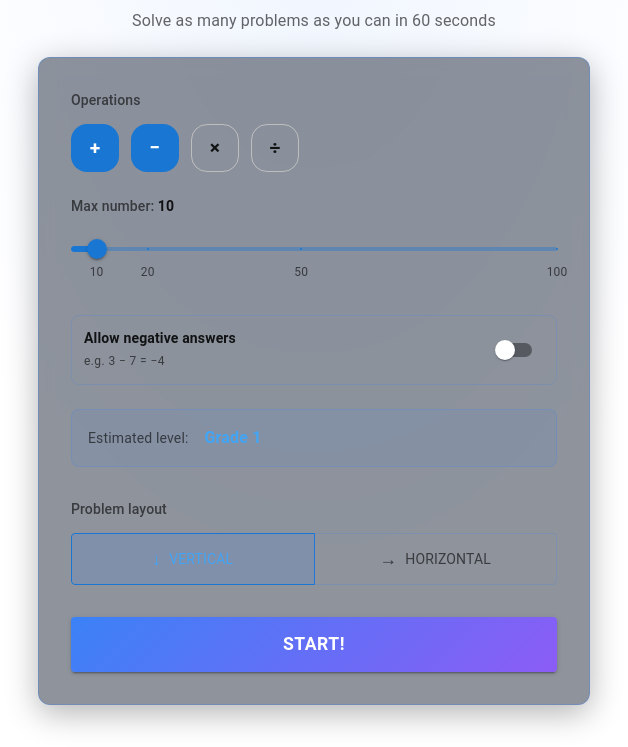
Scenario: MinuteMath page – answering problems › answering correctly increments the correct count
(page scrolled)
Step 1. Click the button "Start!" → (314, 645), box [71, 617, 557, 672]
(page scrolled)
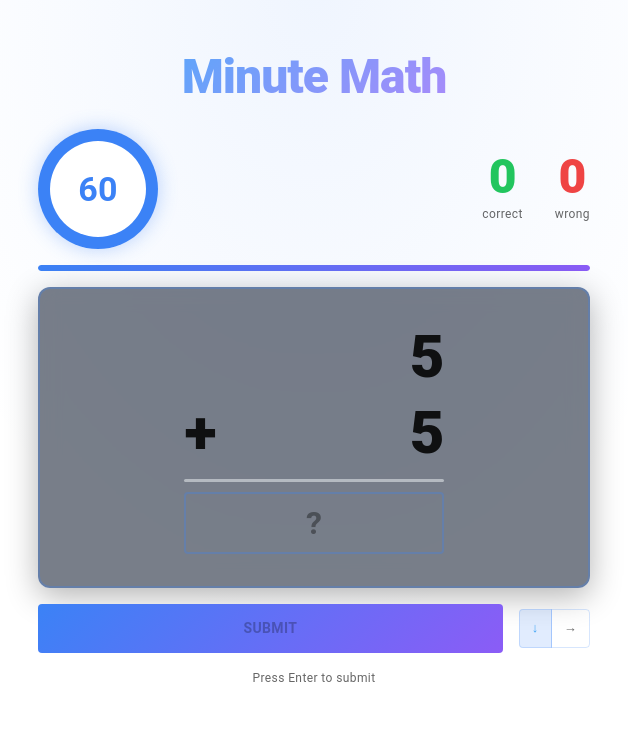
Step 2. Type "10" into the field named "answer input" → (314, 523), box [184, 492, 444, 554]
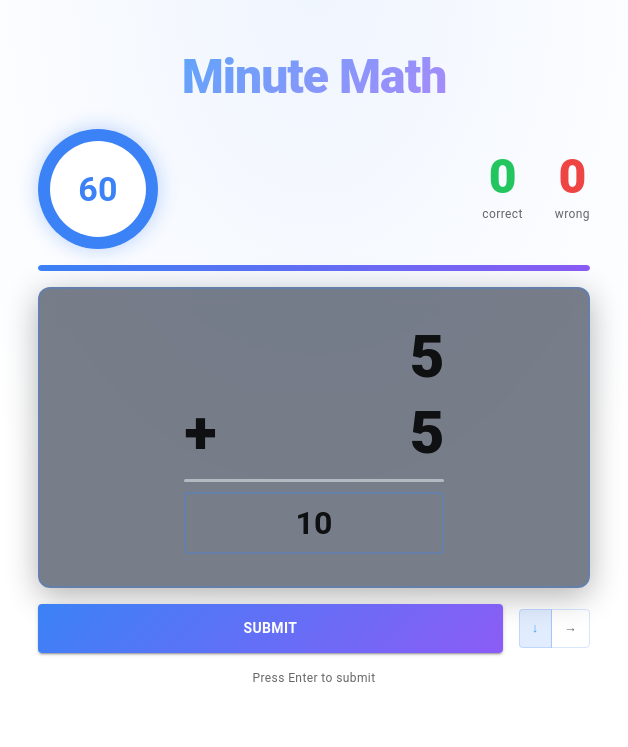
Step 3. Press Enter in the field named "answer input", box [184, 492, 444, 554]
Wait 400 ms
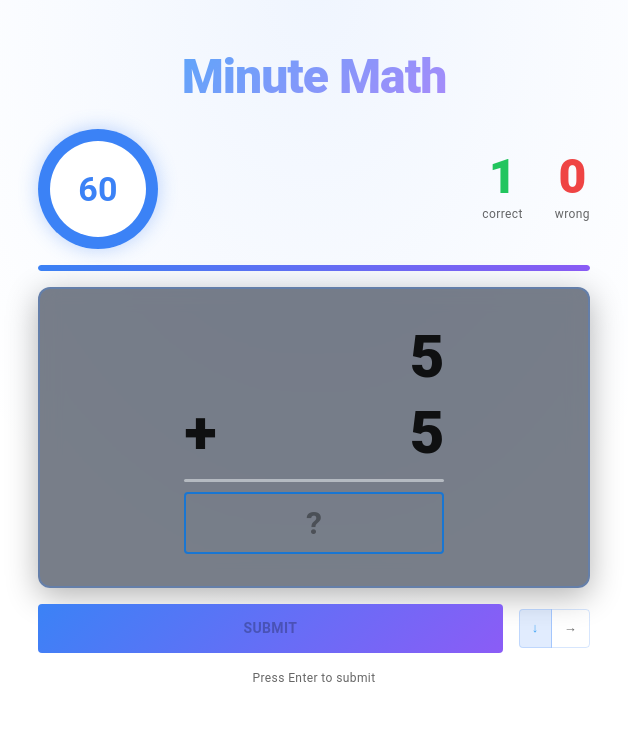
Check: the heading named "correct count" reads "1", box [489, 148, 516, 205]
